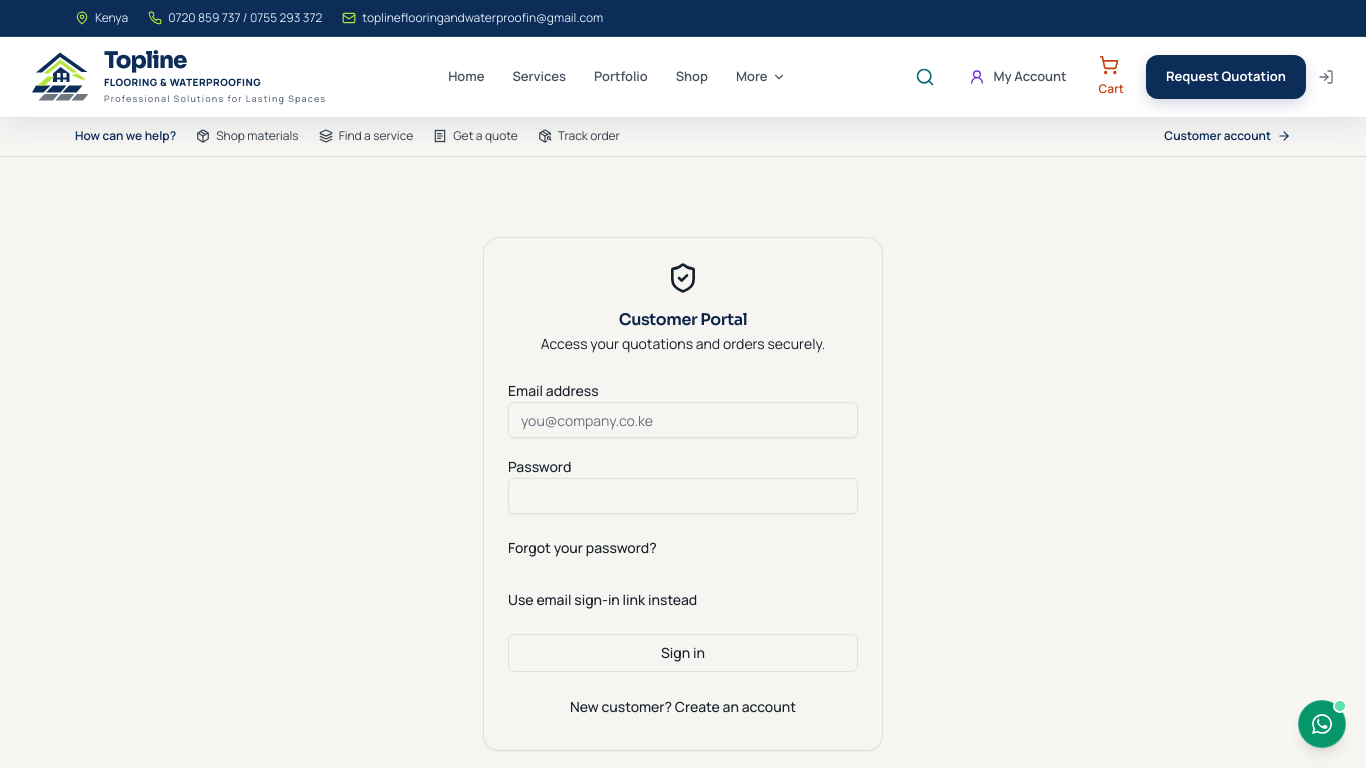
Test: customer registration marketing consent › keeps marketing consent optional and unchecked by default
Click the button "New customer? Create an account": (683, 707) [508,688,858,726]
(page scrolled)
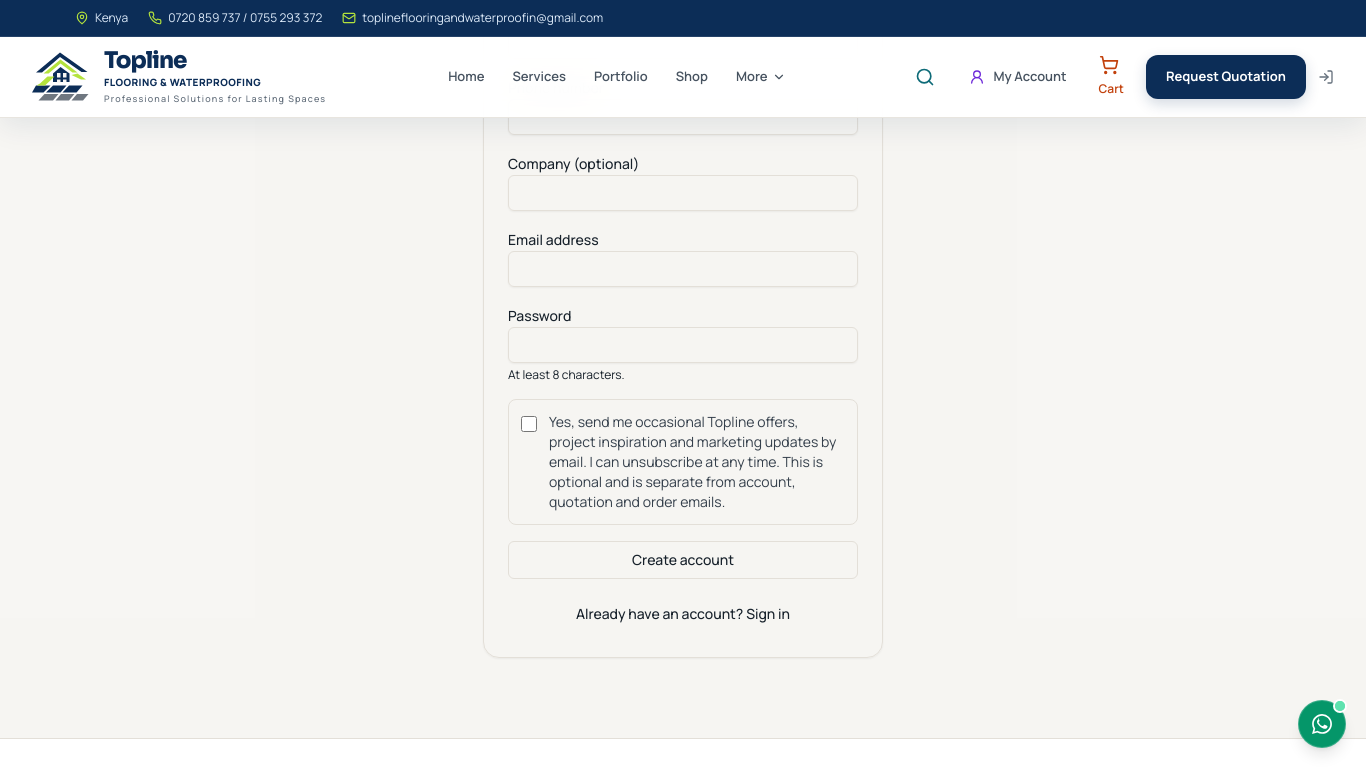
Now the checkbox labelled "Yes, send me occasional Topline offers" is not checked
Click the checkbox labelled "Yes, send me occasional Topline offers": (529, 424) [521,416,537,432]
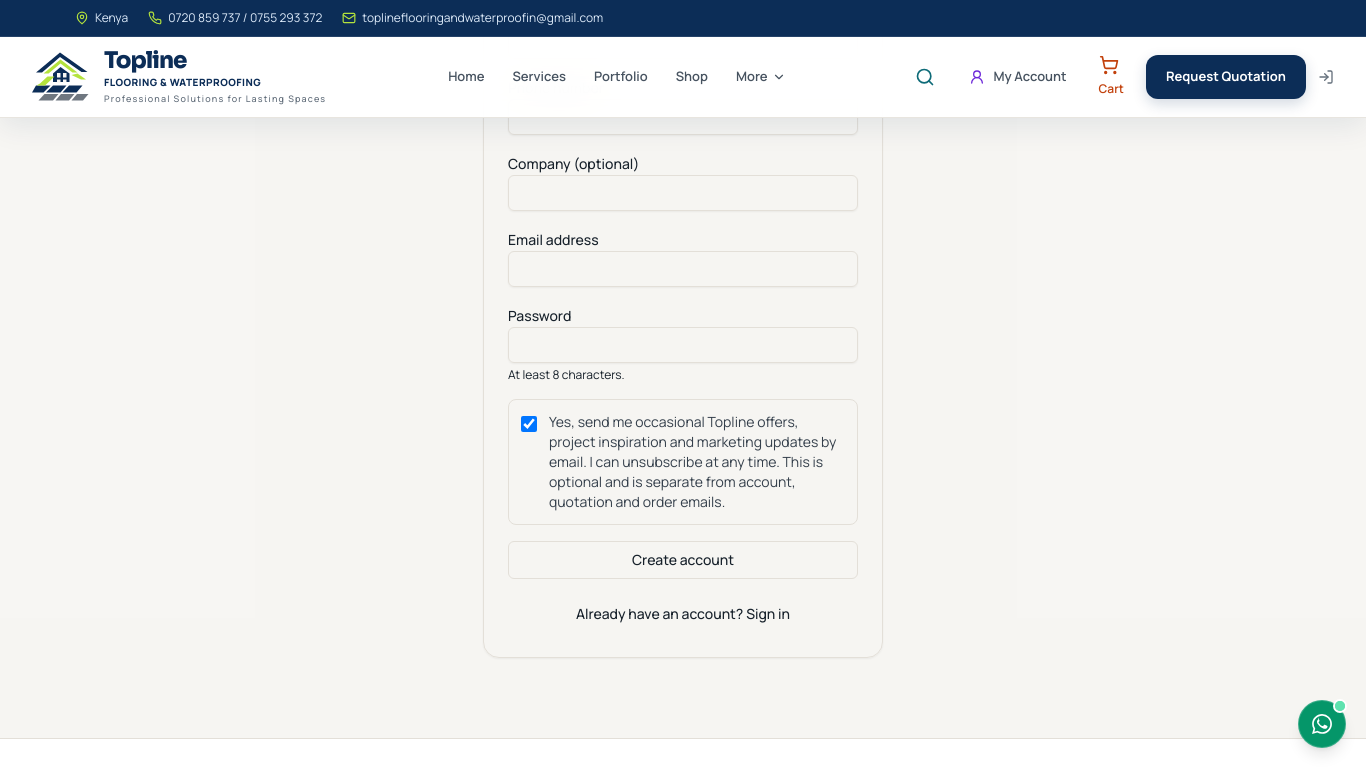
Now the checkbox labelled "Yes, send me occasional Topline offers" is checked
Click the checkbox labelled "Yes, send me occasional Topline offers": (529, 424) [521,416,537,432]
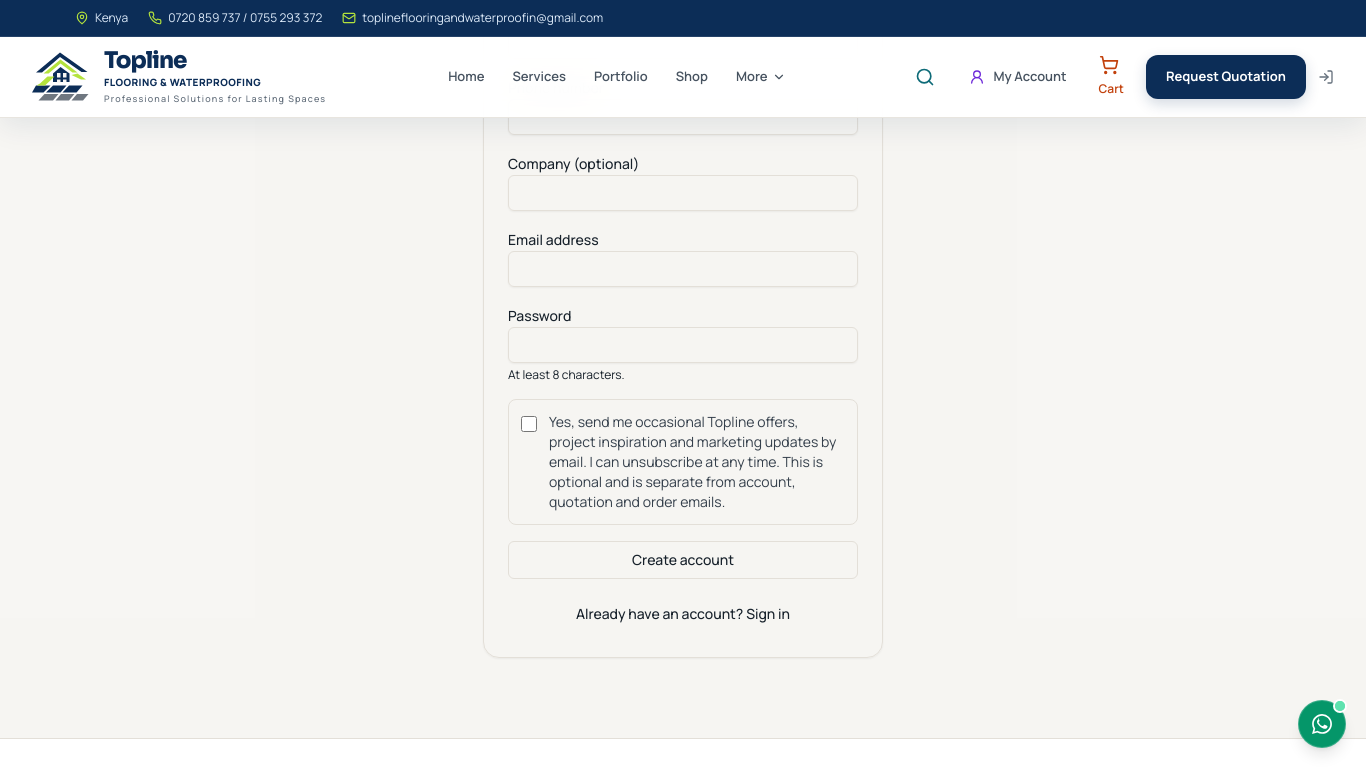
Now the checkbox labelled "Yes, send me occasional Topline offers" is not checked, box [521,416,537,432]
